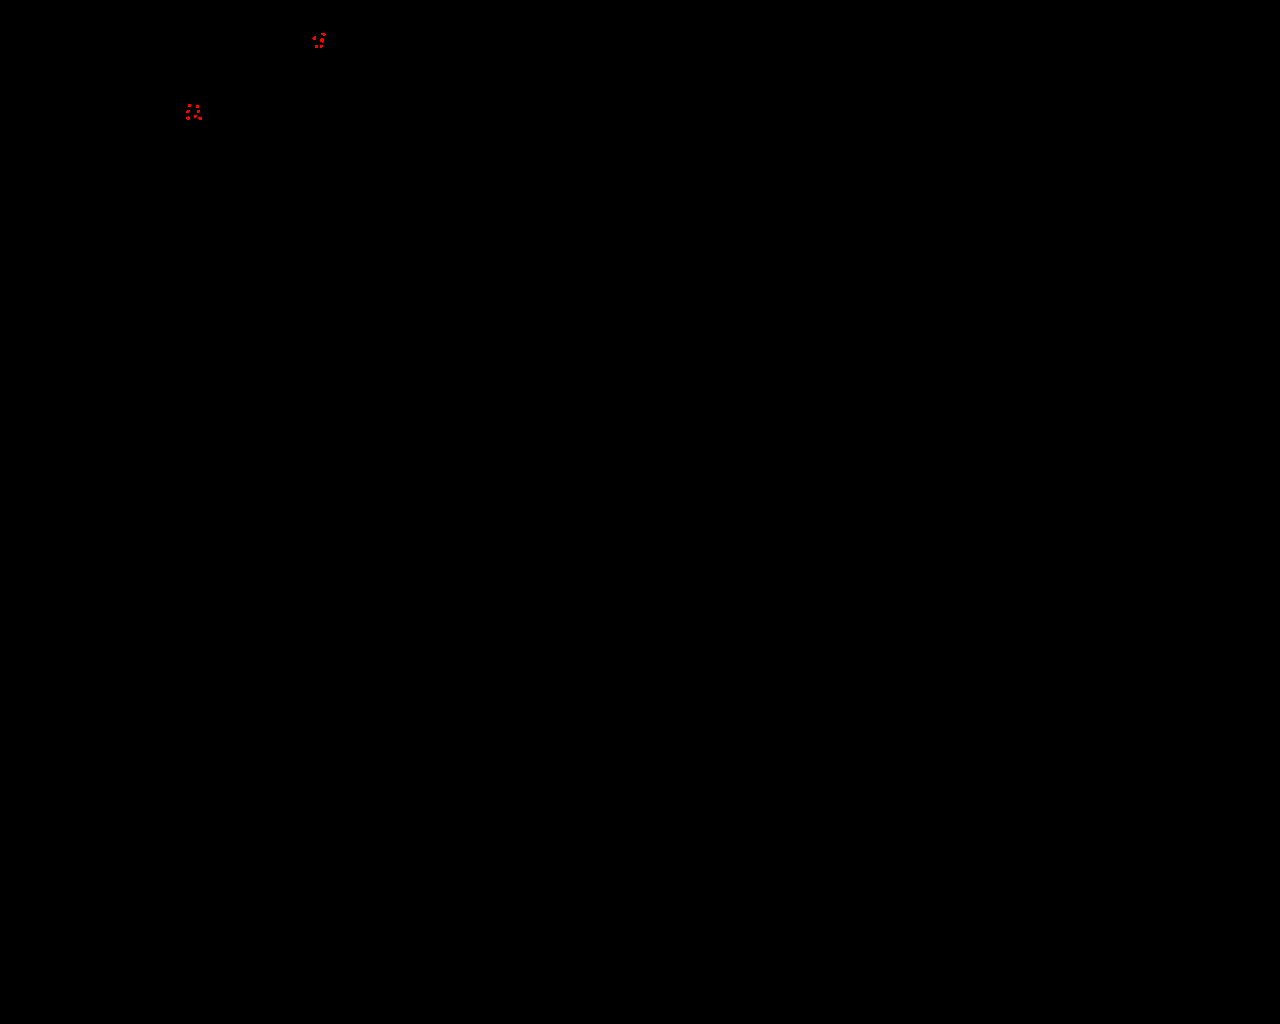Target: (320, 38, 324, 43), (186, 116, 190, 120), (312, 36, 316, 40), (186, 110, 190, 113), (197, 117, 202, 120), (321, 33, 326, 36), (315, 45, 318, 48), (320, 45, 323, 48), (194, 115, 197, 118), (188, 104, 191, 107), (196, 104, 199, 108), (197, 110, 200, 113)
